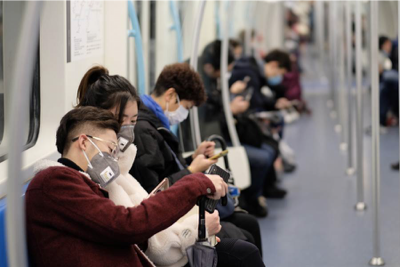with_mask: (89, 139, 121, 187), (115, 112, 139, 154), (165, 102, 195, 126), (270, 69, 288, 86)
